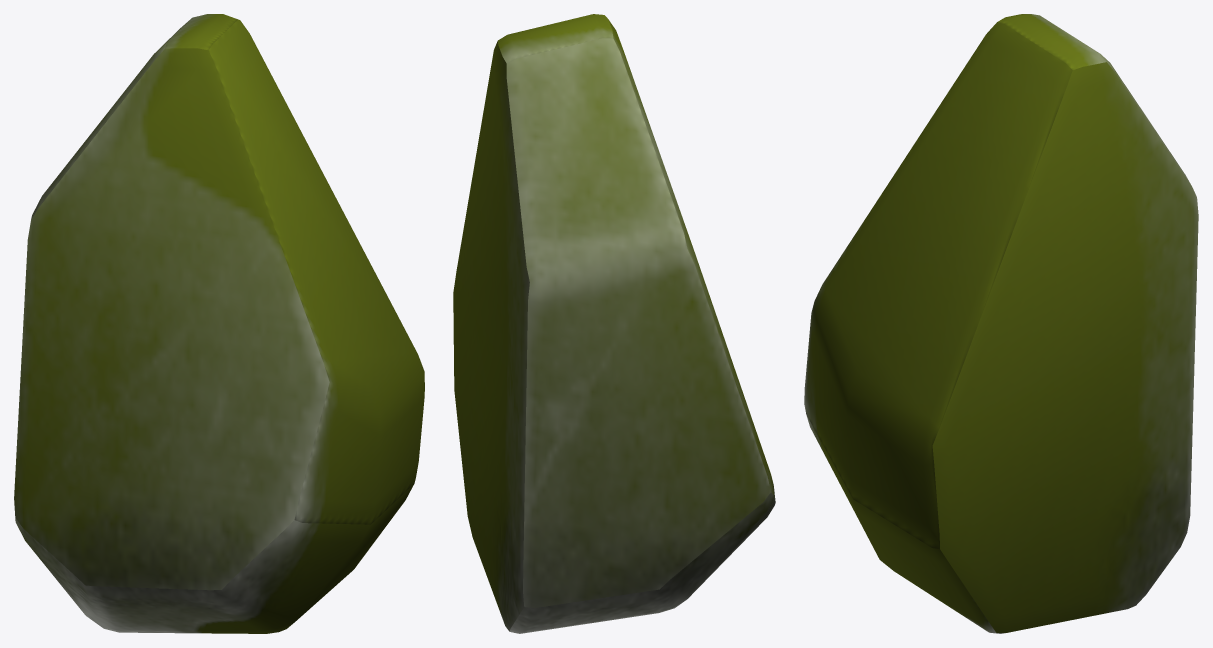
The model's file is rock7_unity.fbx.
3 renders of one model, left to right at view 1: azimuth 30°, elevation 25°; view 2: azimuth 150°, elevation 25°; view 3: azimuth 270°, elevation 25°, orthographic.
Visible parts, largest first — view 1: Object013; view 2: Object013; view 3: Object013.
Part boxes in pixels (x1=…): Object013: x1=14, y1=14, x2=424, y2=633; Object013: x1=453, y1=14, x2=775, y2=633; Object013: x1=804, y1=14, x2=1198, y2=633.
Bounding box in the file's own units: 19.41 × 18.46 × 29.97.
Materials: 1 (1 with a texture image).
